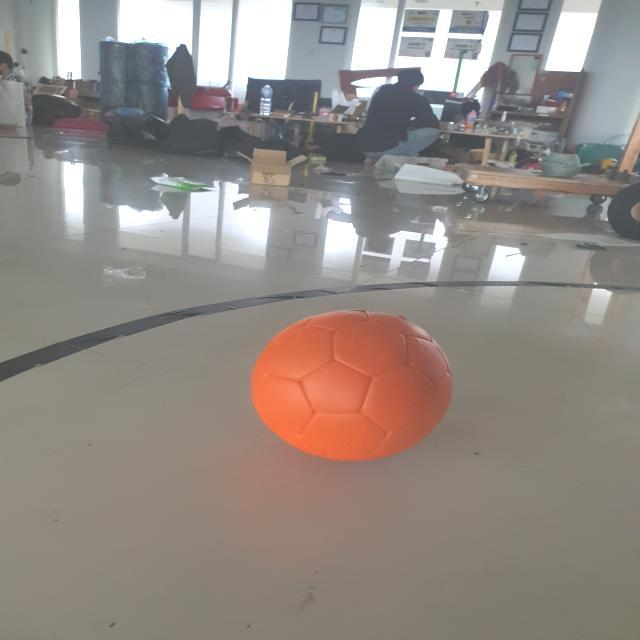bola: (240, 297, 468, 469)
